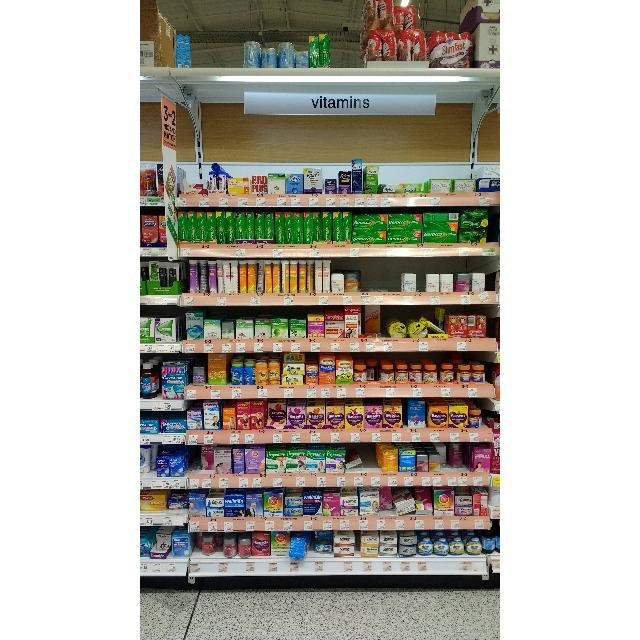empty: (190, 11, 242, 67), (331, 2, 360, 68), (361, 257, 401, 292), (188, 445, 201, 477), (363, 443, 375, 473), (418, 258, 425, 292), (139, 474, 156, 478)
front: (167, 509, 189, 514), (306, 554, 333, 558), (140, 510, 166, 514), (190, 555, 223, 558), (379, 510, 395, 515), (451, 467, 466, 472), (440, 464, 448, 472)
